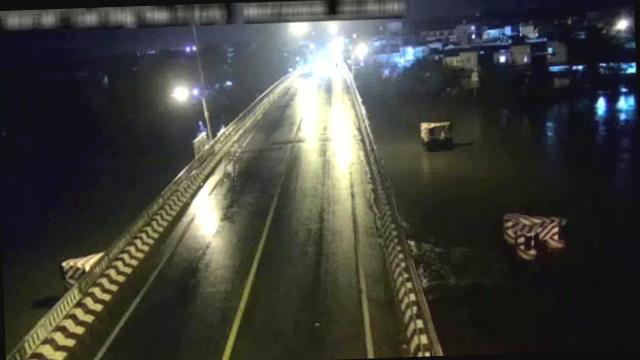Bike: (222, 158, 237, 180)
